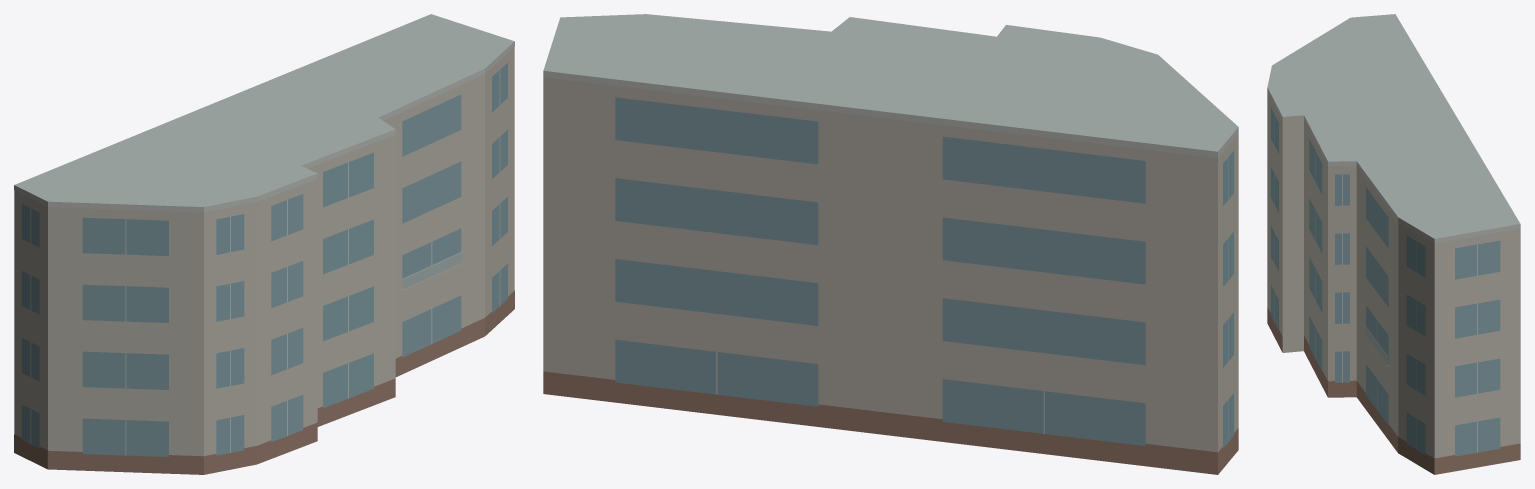
The model's file is survey-upis-32645995.glb.
3 views of the same model, side by side, from view 1: azimuth 30°, elevation 25°; view 2: azimuth 150°, elevation 25°; view 3: azimuth 270°, elevation 25° (orthographic). The views are drawn at different scales.
Parts seen in each view (by area): view 1: survey-upis-32645995.tmp; view 2: survey-upis-32645995.tmp; view 3: survey-upis-32645995.tmp.
Boxes of the visible parts, x1,y1,x2,y2 form: survey-upis-32645995.tmp: [14, 14, 514, 474]; survey-upis-32645995.tmp: [543, 14, 1238, 474]; survey-upis-32645995.tmp: [1267, 14, 1520, 474].
Size of the model in its own units: 24.94 by 12.2 by 11.87.
